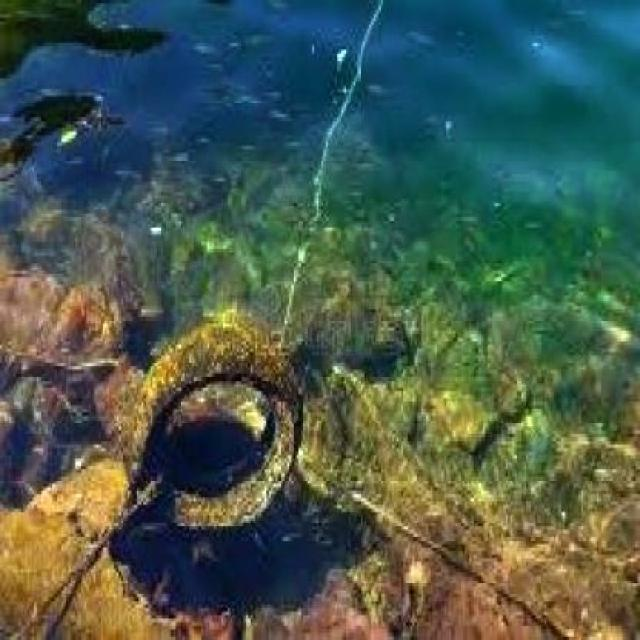tire: (120, 310, 314, 558)
